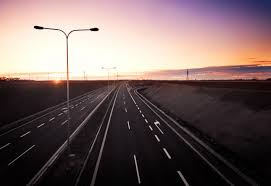strada: (116, 96, 226, 186), (3, 97, 99, 186)
